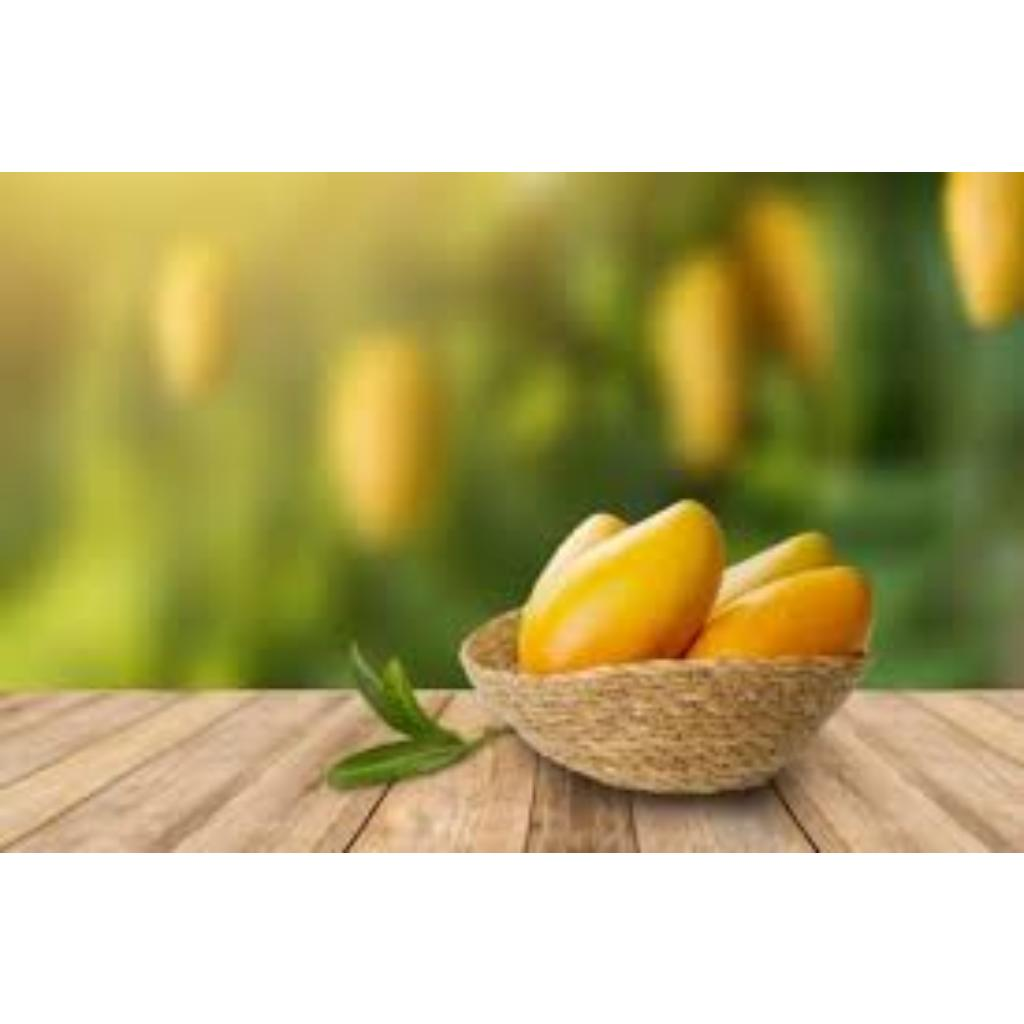mango: (518, 499, 726, 674)
